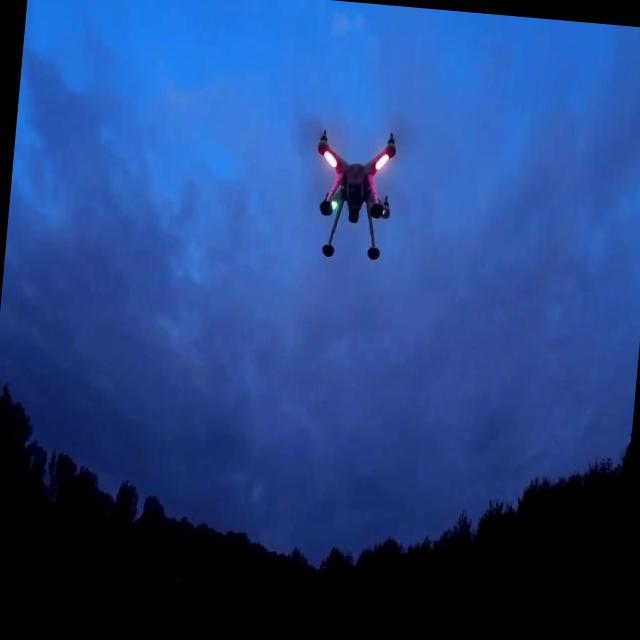drone: (306, 123, 398, 266)
